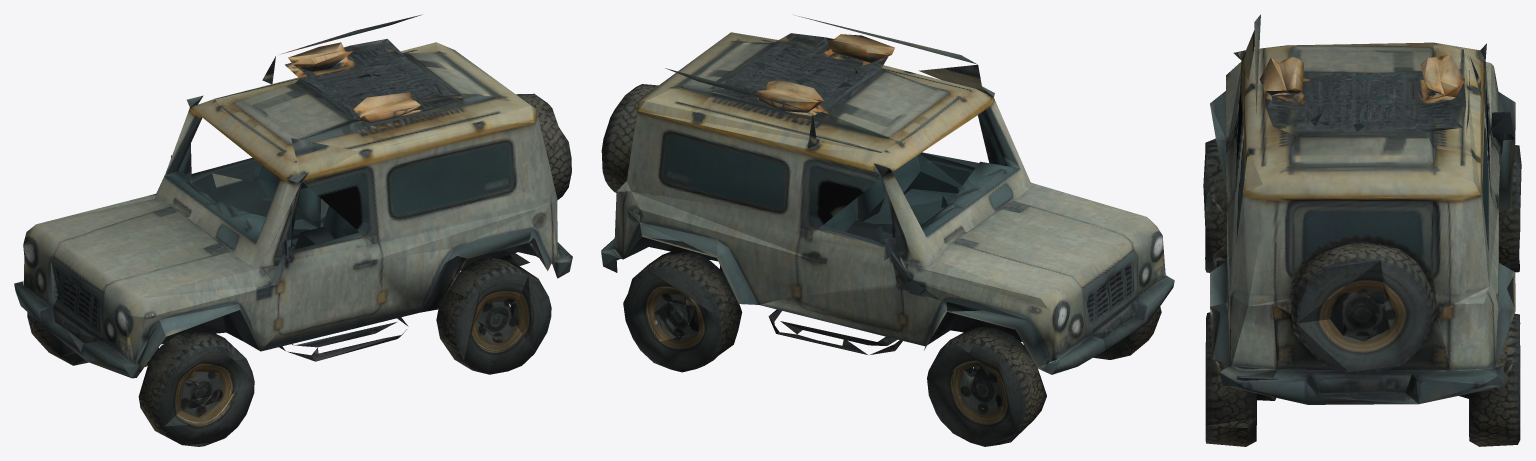
Rendered from car_suv_light.glb.
3 renders of one model, left to right at view 1: azimuth 30°, elevation 25°; view 2: azimuth 150°, elevation 25°; view 3: azimuth 270°, elevation 25°, orthographic. The views are drawn at different scales.
Parts seen in each view (by area): view 1: output_unwrapped; view 2: output_unwrapped; view 3: output_unwrapped.
Boxes of the visible parts, left/top/right/bottom form: output_unwrapped: left=14, top=14, right=572, bottom=446; output_unwrapped: left=601, top=15, right=1174, bottom=446; output_unwrapped: left=1203, top=14, right=1521, bottom=446.
Bounding box in the file's own units: 3.32 × 1.8 × 1.6.
1 material, 1 textured.
